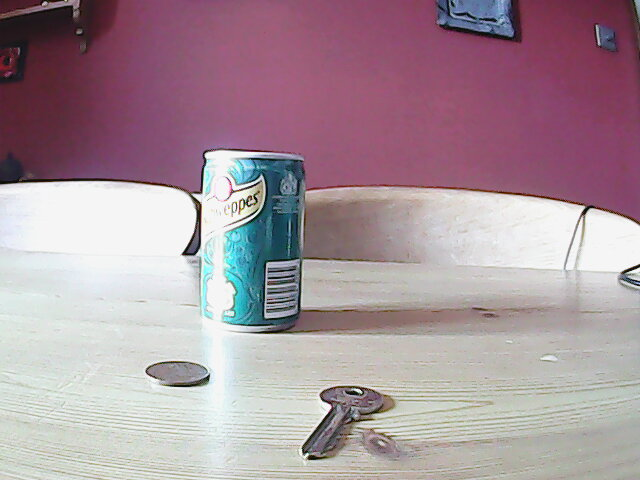Can: (194, 147, 306, 337)
Coin: (140, 359, 212, 389)
Key: (300, 382, 385, 465)
